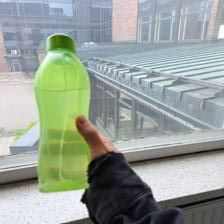bottle: (31, 32, 95, 195)
